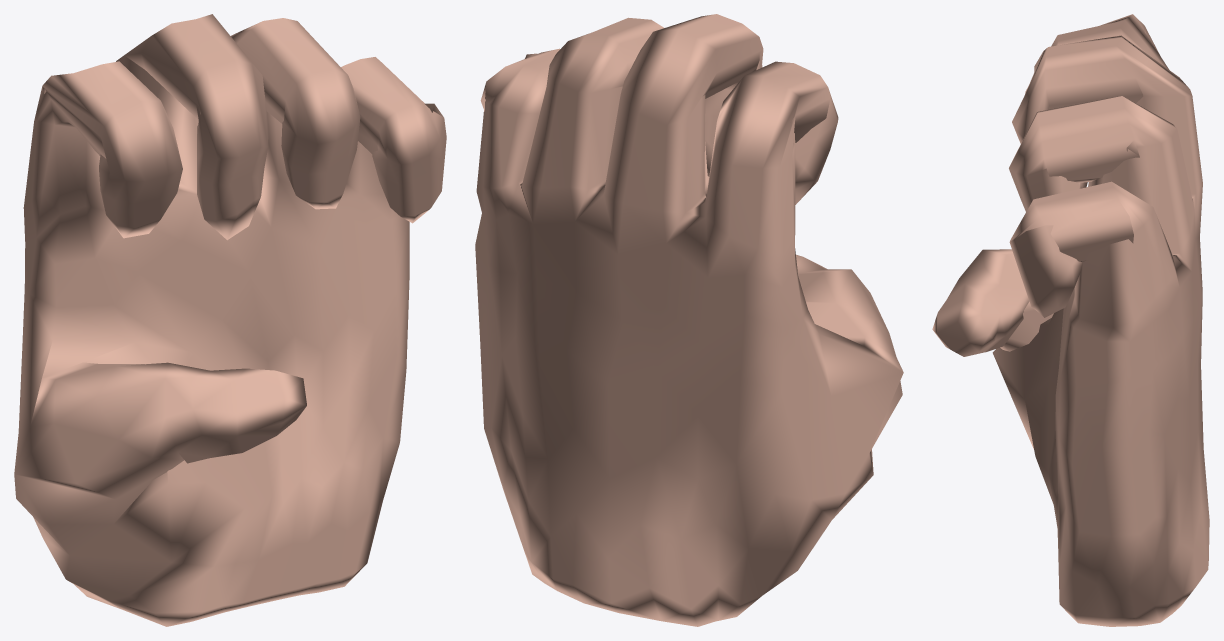
File: MAO_E.obj
3 renders of one model, left to right at view 1: azimuth 30°, elevation 25°; view 2: azimuth 150°, elevation 25°; view 3: azimuth 270°, elevation 25°, orthographic. The views are drawn at different scales.
Parts seen in each view (by area): view 1: mao_dir polySurface1; view 2: mao_dir polySurface1; view 3: mao_dir polySurface1.
Part boxes in pixels (<box>): mao_dir polySurface1: <box>14,14,446,626</box>; mao_dir polySurface1: <box>475,14,903,626</box>; mao_dir polySurface1: <box>932,14,1209,626</box>.
Size of the model in its own units: 134 by 184 by 88.03.
